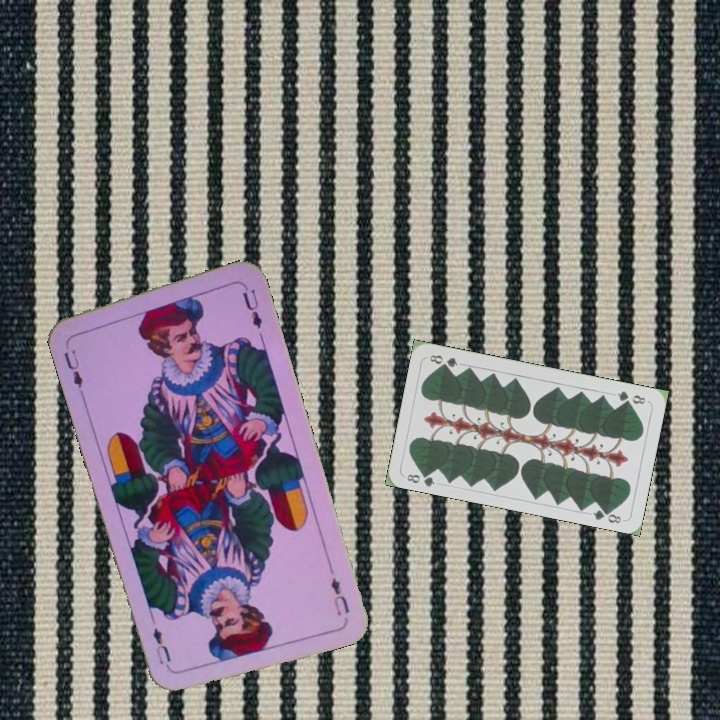EU: (60, 338, 86, 395), (327, 573, 352, 618)
G8: (403, 467, 437, 489), (613, 387, 650, 407)
